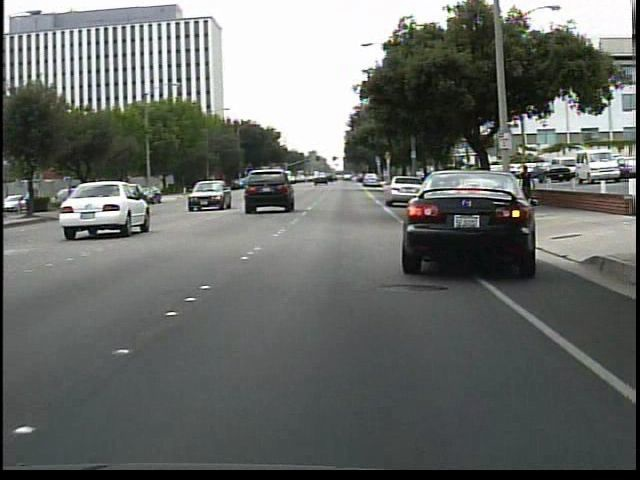person: (516, 162, 537, 208), (500, 165, 519, 207)
